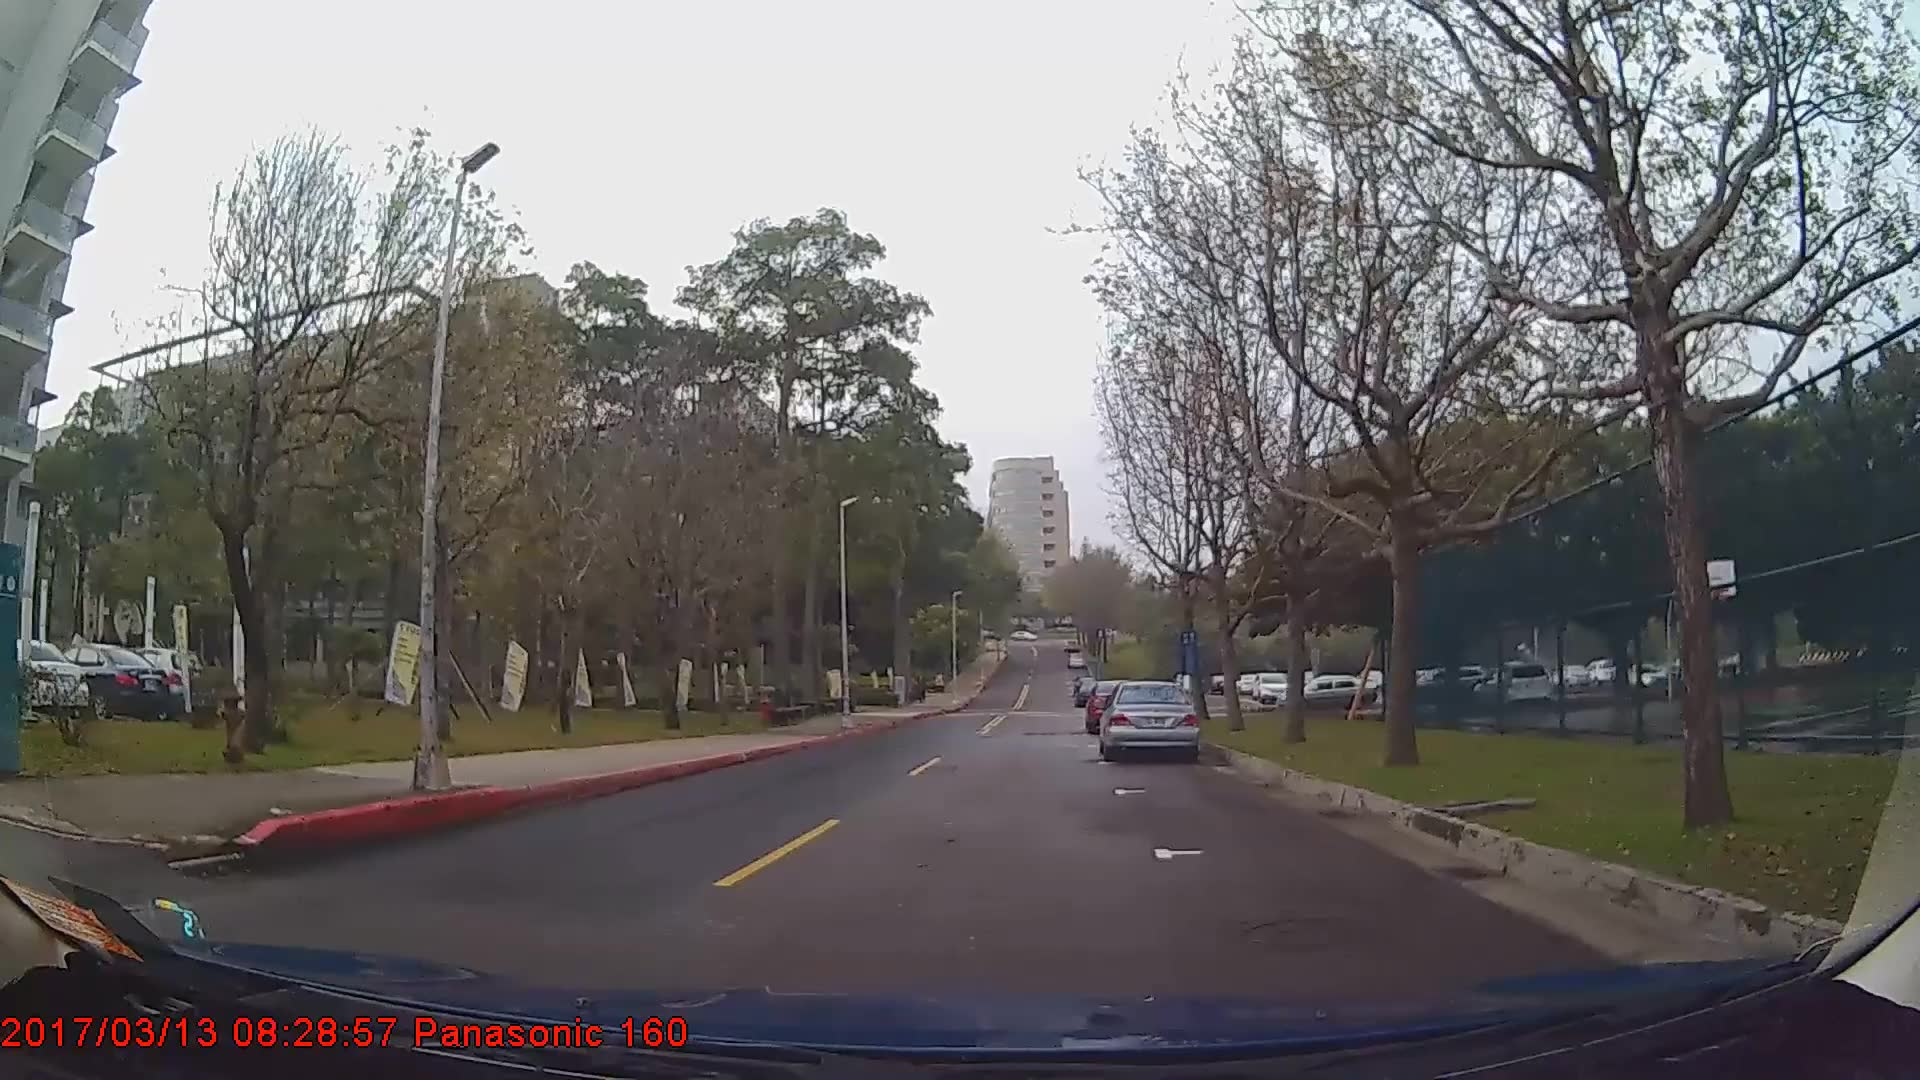vehicle: (55, 641, 167, 723), (1101, 680, 1201, 761), (4, 634, 92, 717), (107, 644, 204, 712), (1275, 671, 1375, 711)
